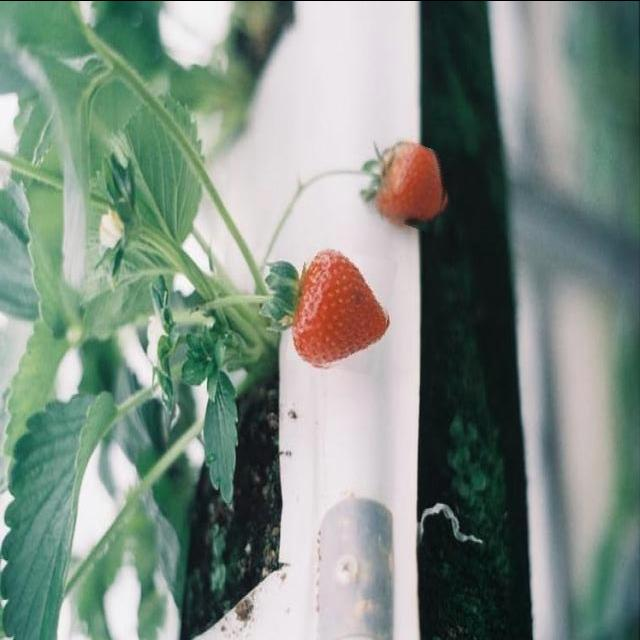strawberry: (291, 248, 394, 372), (375, 139, 454, 229)
